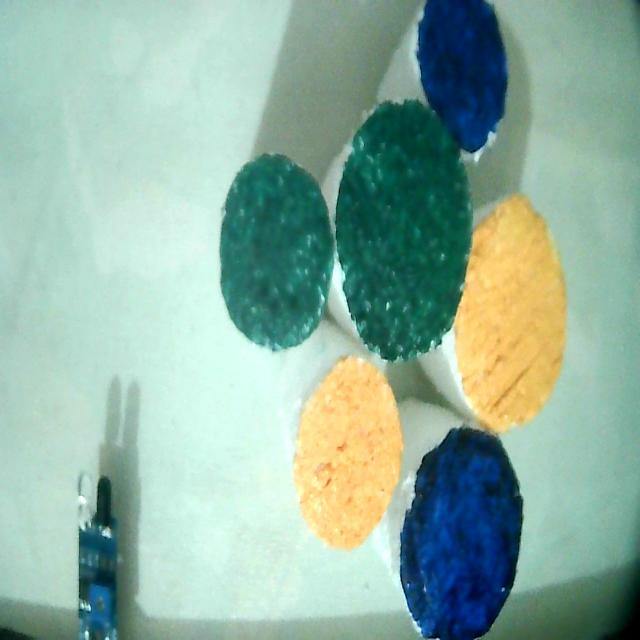blue: (398, 426, 522, 639), (417, 0, 507, 152)
green: (336, 101, 472, 360), (220, 156, 332, 351)
yellow: (436, 195, 566, 432), (294, 357, 402, 550)
